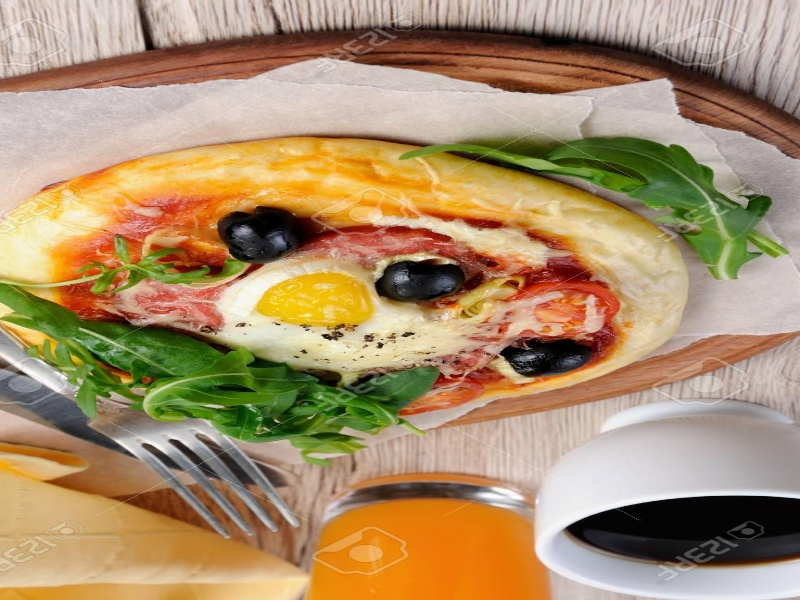oeuf: (245, 264, 376, 346)
olive: (211, 197, 332, 265), (496, 334, 610, 384), (368, 257, 481, 307)
